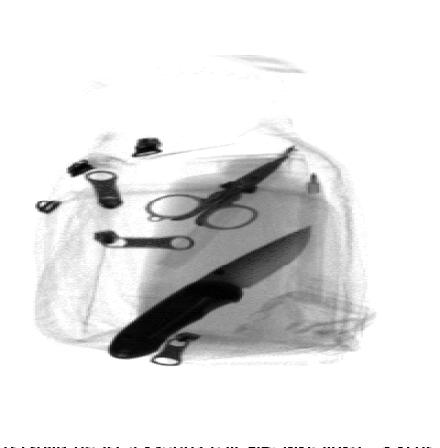Knife: (107, 225, 313, 358)
Scissors: (140, 151, 290, 230)
